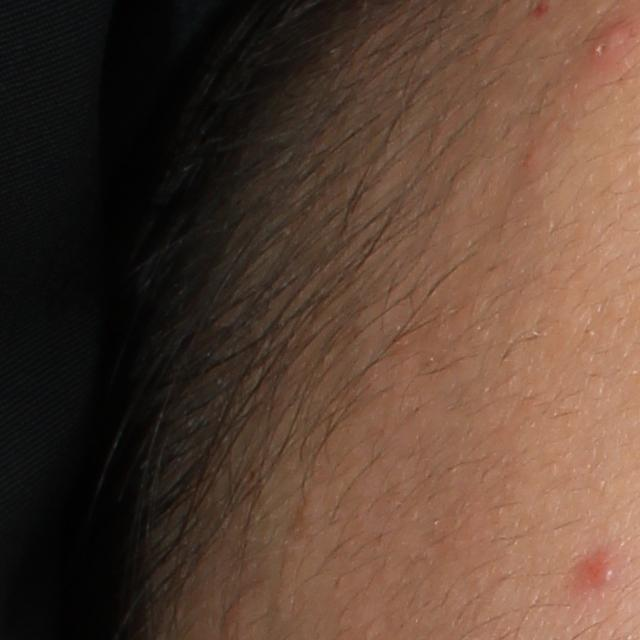papule: (584, 22, 633, 72), (572, 544, 617, 585)
